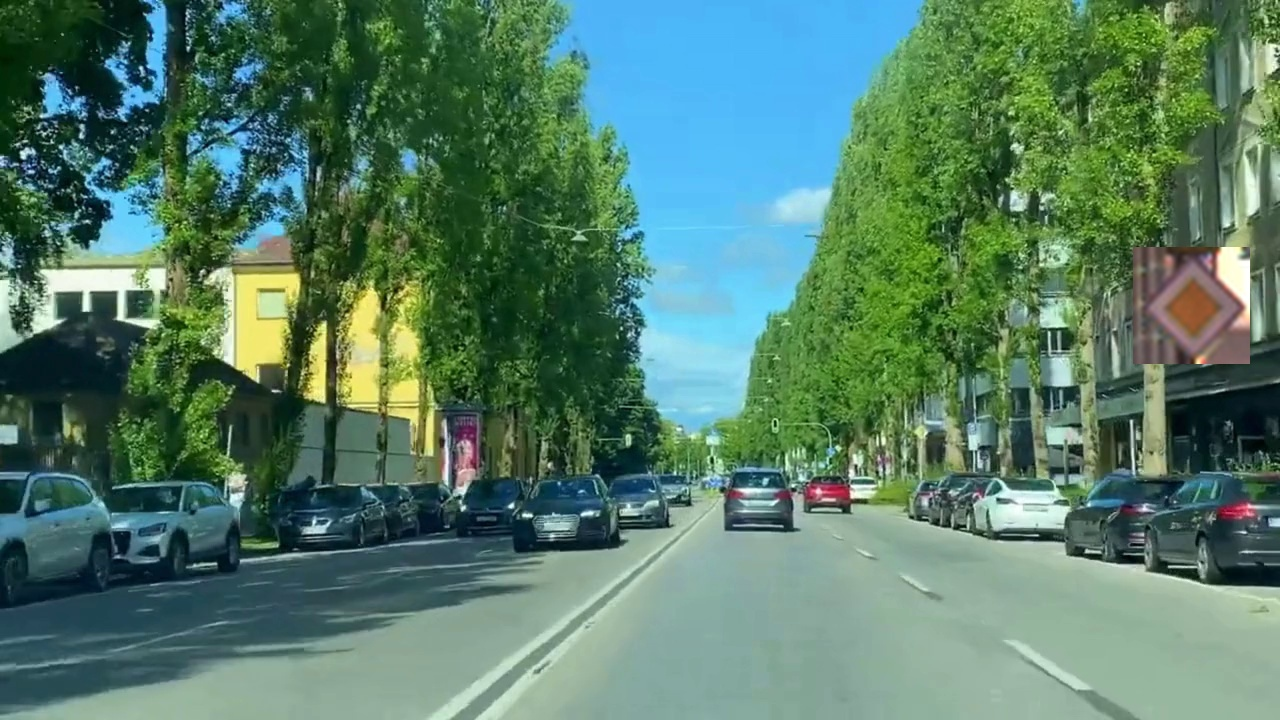Priority road: (1133, 247, 1250, 364)
